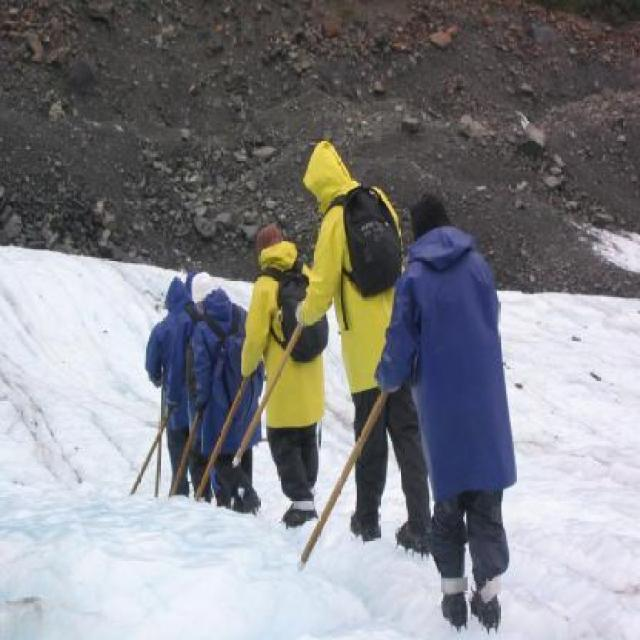backpack: (337, 180, 403, 300), (263, 260, 331, 366)
